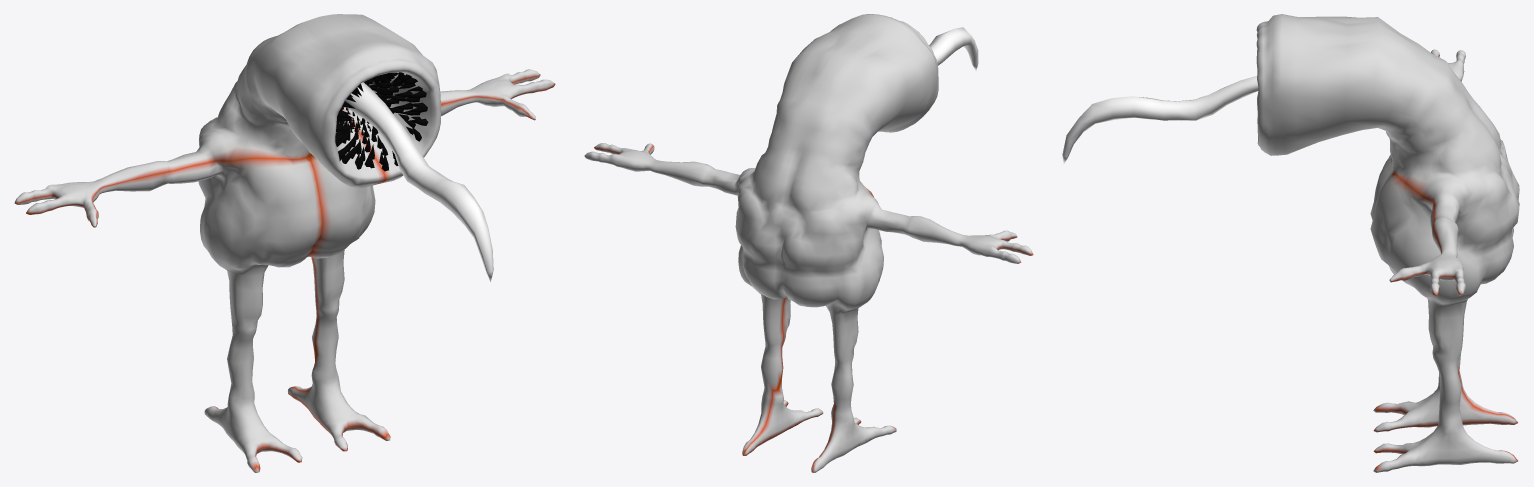
File: monster2.fbx
3 renders of one model, left to right at view 1: azimuth 30°, elevation 25°; view 2: azimuth 150°, elevation 25°; view 3: azimuth 270°, elevation 25°, orthographic. The views are drawn at different scales.
Visible parts, largest first — view 1: pCube10_01_SeamsColor, pCylinder10_02; view 2: pCube10_01_SeamsColor, pCylinder10_02; view 3: pCube10_01_SeamsColor, pCylinder10_02.
Part boxes in pixels (<box>): pCube10_01_SeamsColor: <box>14,14,555,472</box>; pCylinder10_02: <box>335,72,493,281</box>; pCube10_01_SeamsColor: <box>584,14,1033,472</box>; pCylinder10_02: <box>929,27,978,71</box>; pCube10_01_SeamsColor: <box>1256,14,1519,472</box>; pCylinder10_02: <box>1062,76,1258,164</box>.
Bounding box in the file's own units: 23.39 × 18.94 × 18.55.
